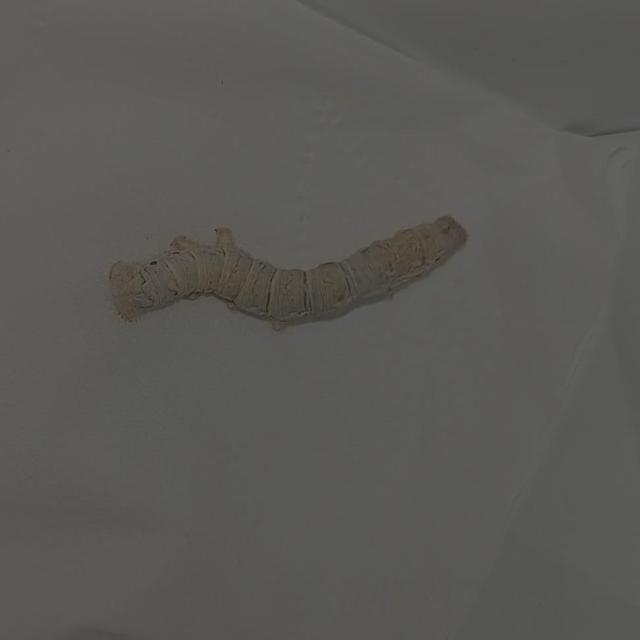Healthy: (98, 195, 466, 344)
